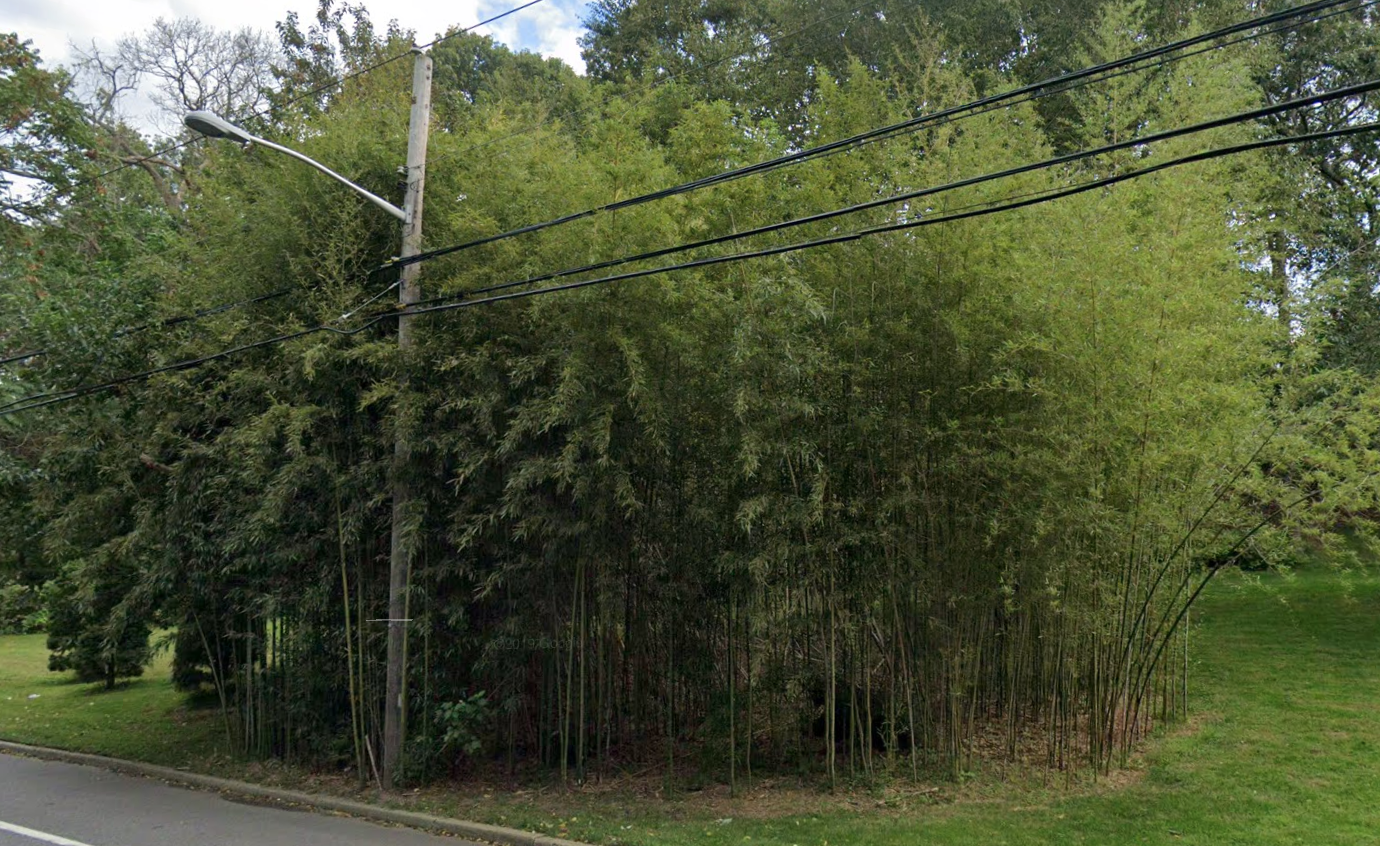bamboo: (751, 52, 1271, 773), (10, 67, 395, 749), (427, 120, 786, 782)
